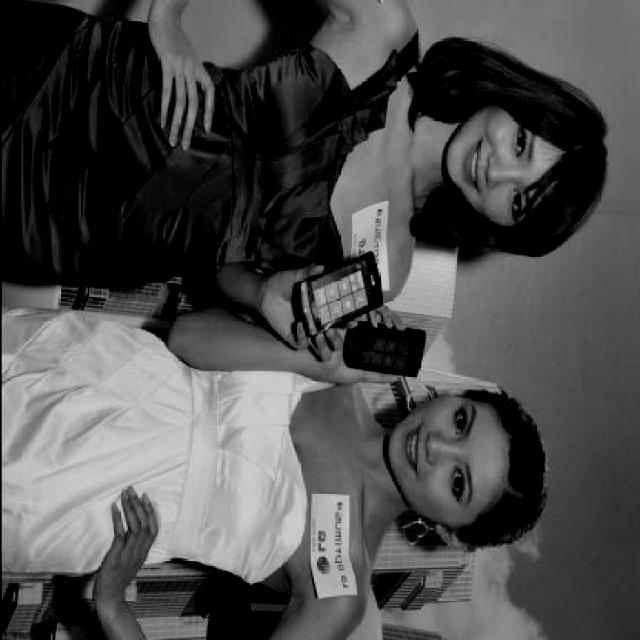fake: (292, 240, 397, 338), (342, 319, 426, 381)
real: (386, 388, 514, 535), (438, 106, 561, 229), (500, 118, 545, 228), (445, 399, 485, 520)
